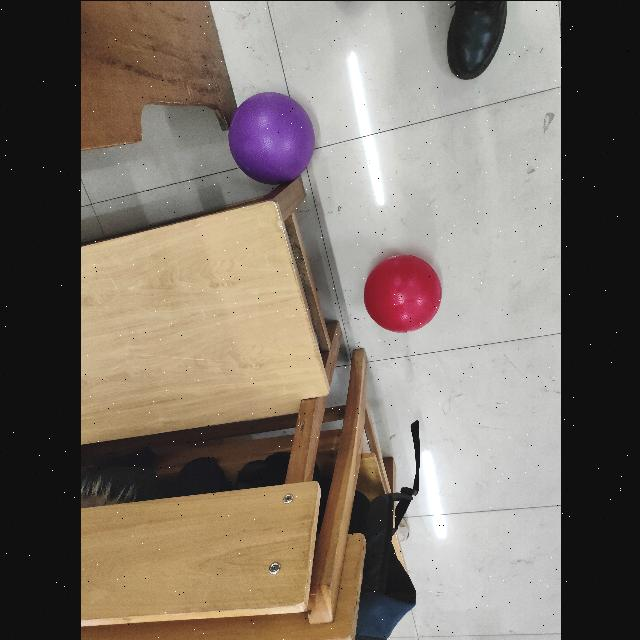P: (228, 90, 318, 188)
R: (361, 252, 441, 334)
